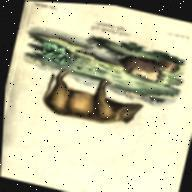boar: (38, 64, 149, 135)
